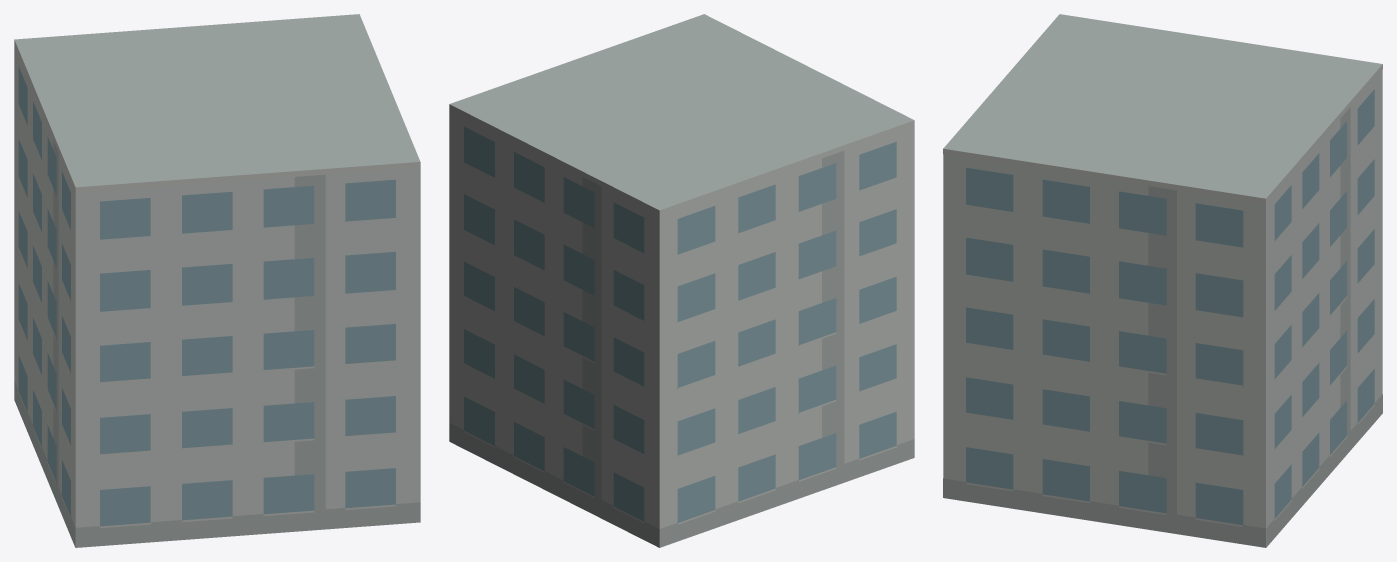
The model's file is residential-70689c45-336f-4a6e-964d-d48762659f37.glb.
3 renders of one model, left to right at view 1: azimuth 30°, elevation 25°; view 2: azimuth 150°, elevation 25°; view 3: azimuth 270°, elevation 25°, orthographic. The views are drawn at different scales.
Parts seen in each view (by area): view 1: residential-70689c45-336f-4a6e-964d-d48762659f37.tmp; view 2: residential-70689c45-336f-4a6e-964d-d48762659f37.tmp; view 3: residential-70689c45-336f-4a6e-964d-d48762659f37.tmp.
Part boxes in pixels (bbox=[...]): residential-70689c45-336f-4a6e-964d-d48762659f37.tmp: bbox=[14, 14, 420, 547]; residential-70689c45-336f-4a6e-964d-d48762659f37.tmp: bbox=[449, 14, 914, 547]; residential-70689c45-336f-4a6e-964d-d48762659f37.tmp: bbox=[943, 14, 1382, 547].
Size of the model in its own units: 17.3 by 15.25 by 17.41.
